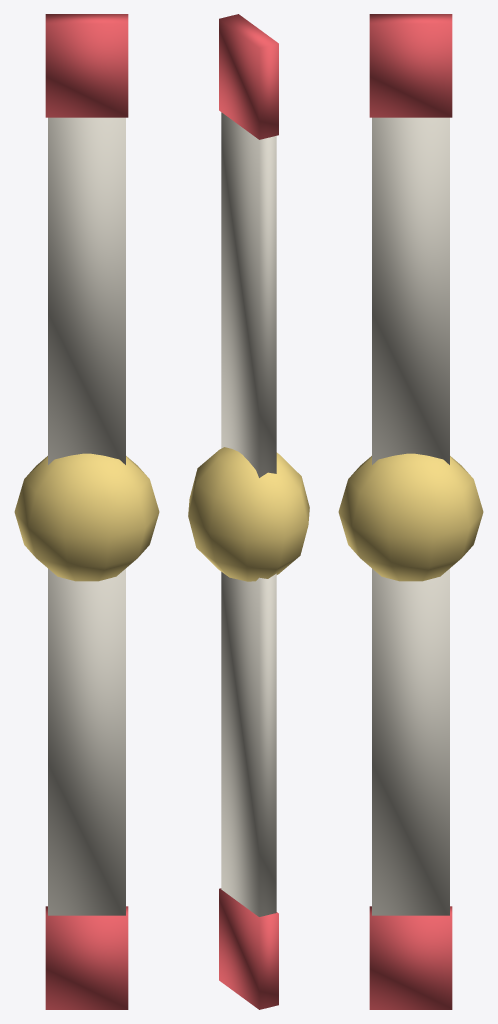
The model's file is ryeah_tail_rotor.glb.
The picture shows the model from 3 angles, left to right: view 1: azimuth 90°, elevation 25°; view 2: azimuth 210°, elevation 25°; view 3: azimuth 270°, elevation 25°; orthographic projection. The views are drawn at different scales.
Parts seen in each view (by area): view 1: TailRotor_Blades, TailRotor_Tips, TailRotor_Hub; view 2: TailRotor_Blades, TailRotor_Hub, TailRotor_Tips; view 3: TailRotor_Blades, TailRotor_Tips, TailRotor_Hub.
Part boxes in pixels (x1,y1,x2,y2): TailRotor_Blades: [48, 117, 125, 915]; TailRotor_Tips: [45, 14, 128, 1009]; TailRotor_Hub: [14, 453, 159, 581]; TailRotor_Blades: [221, 112, 276, 916]; TailRotor_Hub: [188, 447, 309, 581]; TailRotor_Tips: [219, 14, 278, 1009]; TailRotor_Blades: [372, 117, 449, 915]; TailRotor_Tips: [369, 14, 452, 1009]; TailRotor_Hub: [338, 453, 483, 581].
Bounding box in the file's own units: 0.137 × 1.26 × 0.168.
